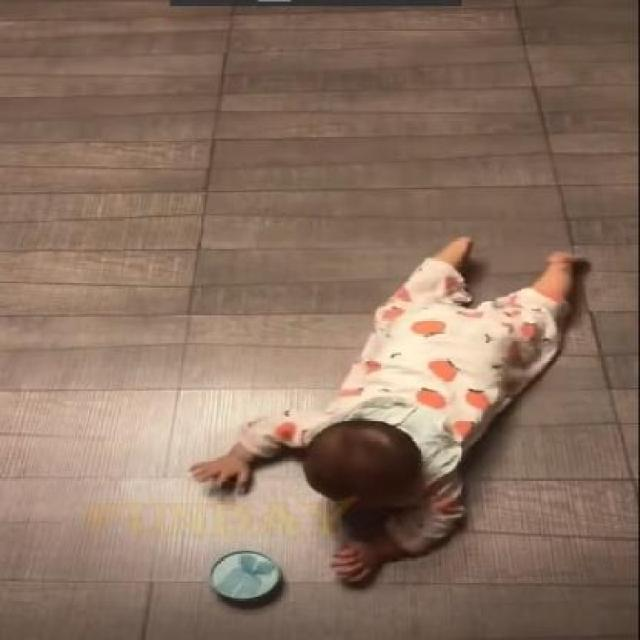baby: (183, 230, 588, 588)
